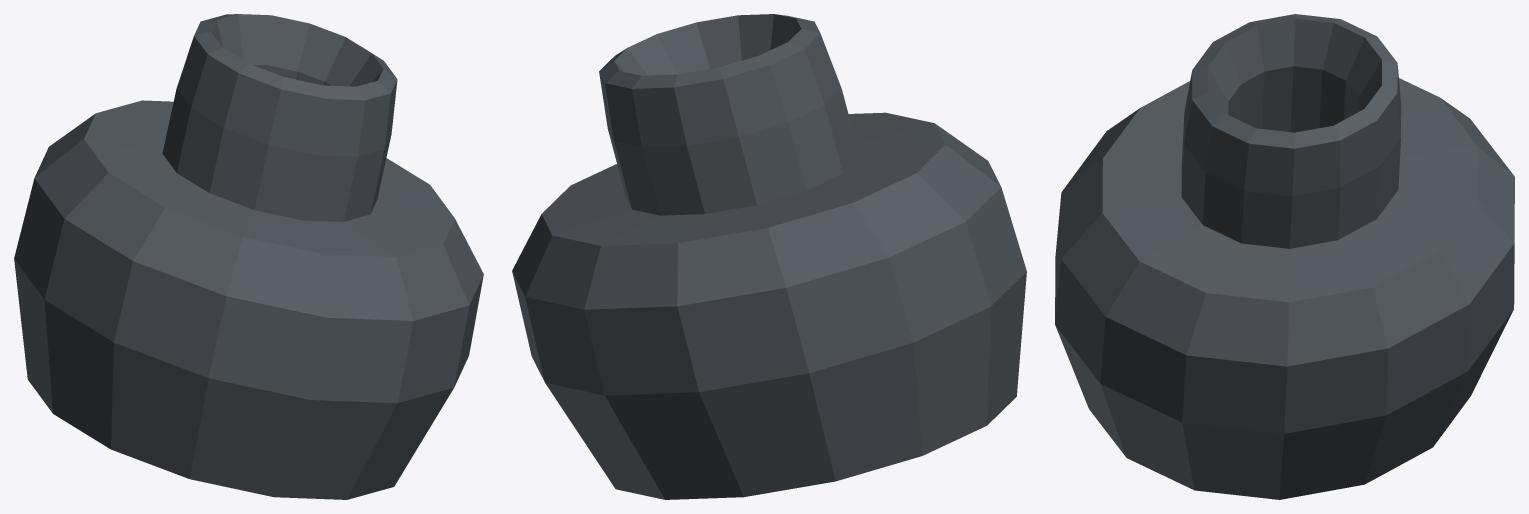
The model's file is Mothership_02_Detail_5_Yellow.fbx.
The picture shows the model from 3 angles, left to right: view 1: azimuth 30°, elevation 25°; view 2: azimuth 150°, elevation 25°; view 3: azimuth 270°, elevation 25°; orthographic projection. The views are drawn at different scales.
Visible parts, largest first — view 1: Mothership_02_Detail_5_Yellow; view 2: Mothership_02_Detail_5_Yellow; view 3: Mothership_02_Detail_5_Yellow.
Boxes of the visible parts, bbox=[...] form: Mothership_02_Detail_5_Yellow: bbox=[14, 14, 483, 499]; Mothership_02_Detail_5_Yellow: bbox=[512, 14, 1026, 499]; Mothership_02_Detail_5_Yellow: bbox=[1055, 14, 1514, 499].
Bounding box in the file's own units: 120 × 114 × 117.
1 material, 1 textured.
